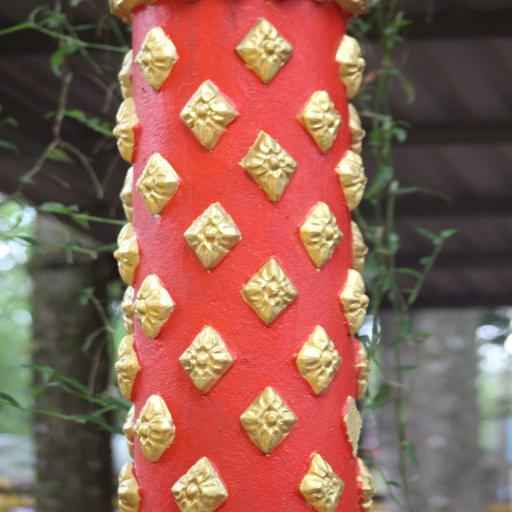hoa: (185, 202, 240, 268), (241, 387, 294, 454), (133, 395, 184, 462), (181, 327, 235, 389), (179, 86, 237, 143), (175, 457, 232, 512), (300, 325, 343, 396), (242, 22, 293, 81), (244, 260, 295, 318), (134, 26, 179, 91), (303, 92, 351, 150), (248, 135, 294, 194), (302, 451, 344, 512), (133, 275, 173, 335), (306, 201, 340, 269), (336, 37, 372, 95), (116, 332, 146, 393), (342, 148, 368, 212), (344, 276, 373, 333), (137, 157, 169, 207), (111, 467, 144, 512), (115, 102, 137, 162), (114, 225, 136, 282), (117, 164, 136, 226)
